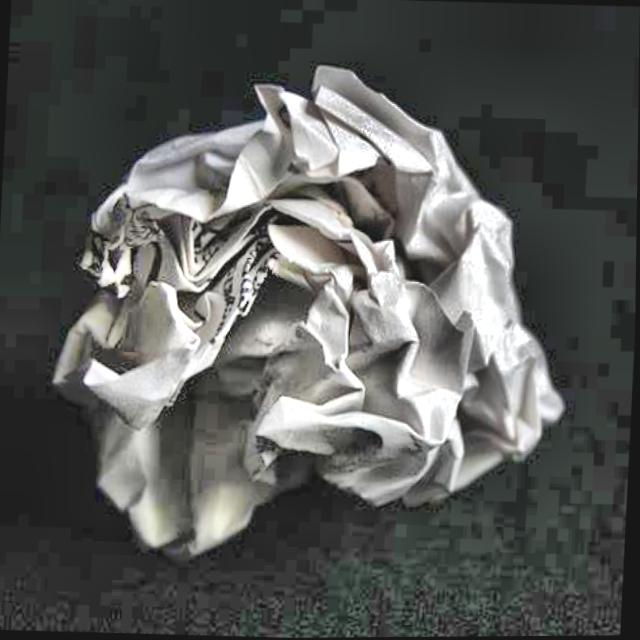Paper: (51, 40, 592, 578)
